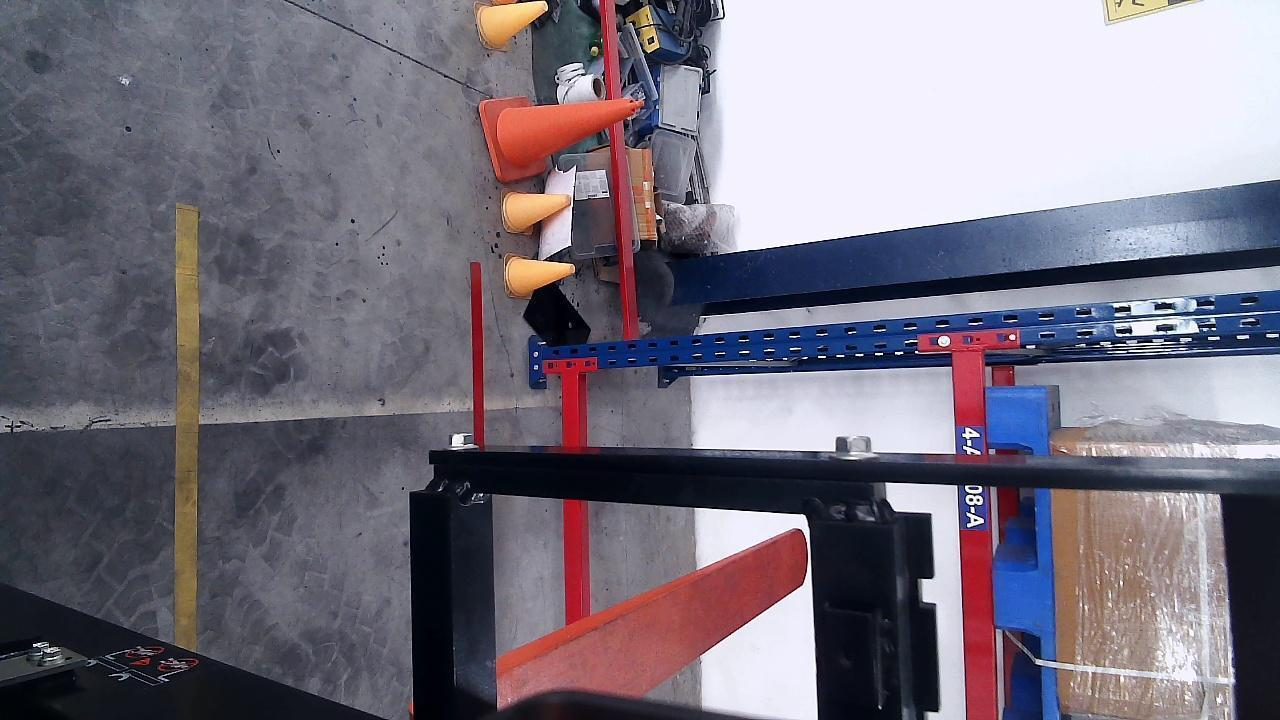red_line: (469, 262, 490, 445)
yellow_line: (174, 204, 200, 652)
